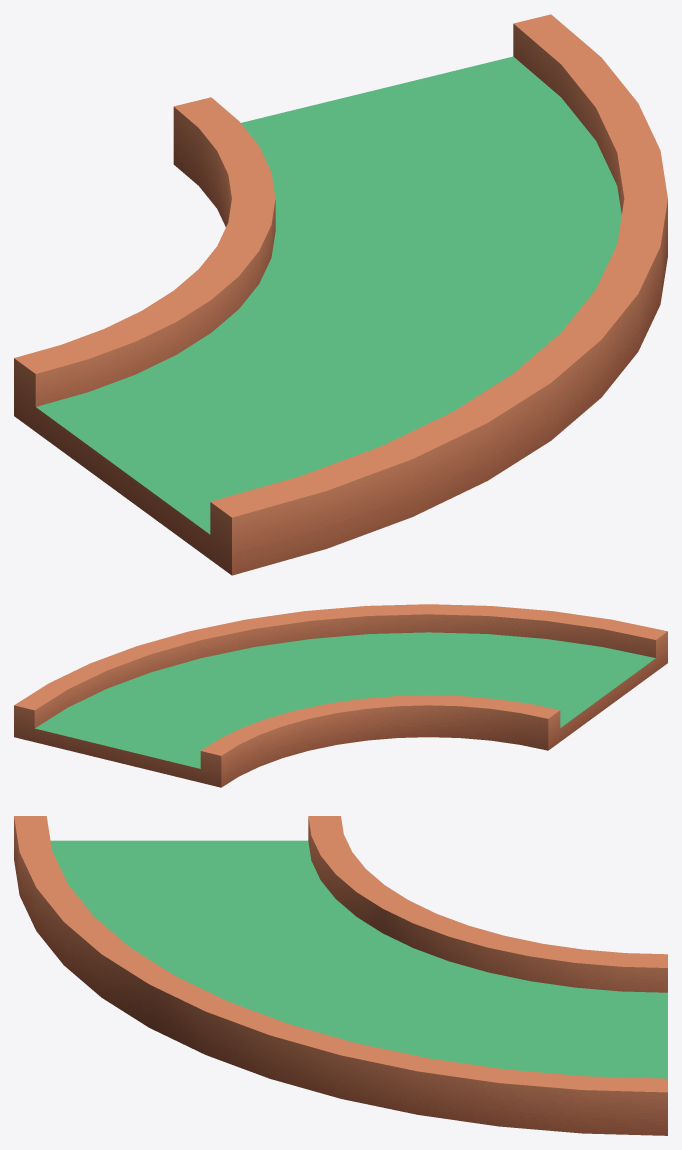
Rendered from round_large_corner.glb.
3 renders of one model, top to bottom at view 1: azimuth 30°, elevation 25°; view 2: azimuth 150°, elevation 25°; view 3: azimuth 270°, elevation 25°, orthographic. The views are drawn at different scales.
Visible parts, largest first — view 1: round-large-corner; view 2: round-large-corner; view 3: round-large-corner.
Boxes of the visible parts, x1=… form: round-large-corner: x1=14, y1=14, x2=667, y2=575; round-large-corner: x1=14, y1=604, x2=667, y2=787; round-large-corner: x1=14, y1=816, x2=667, y2=1135.
Size of the model in its own units: 2 by 0.1467 by 2.
Materials: 1 (1 with a texture image).
